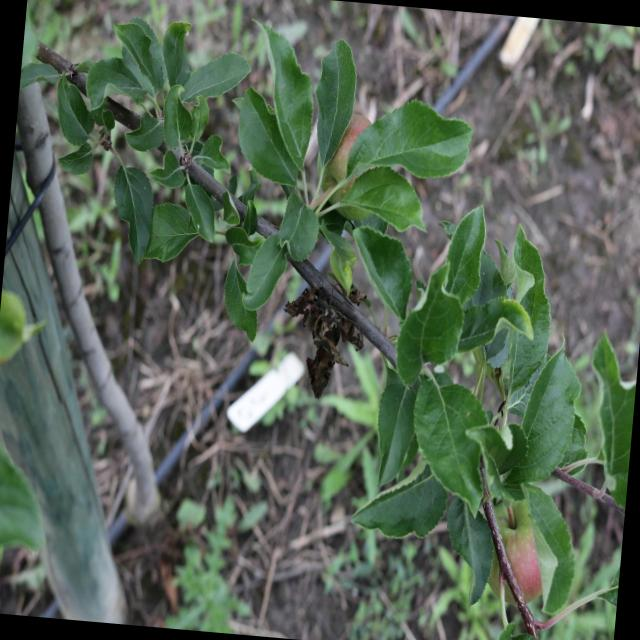-FireBlight-: (275, 280, 379, 399)
